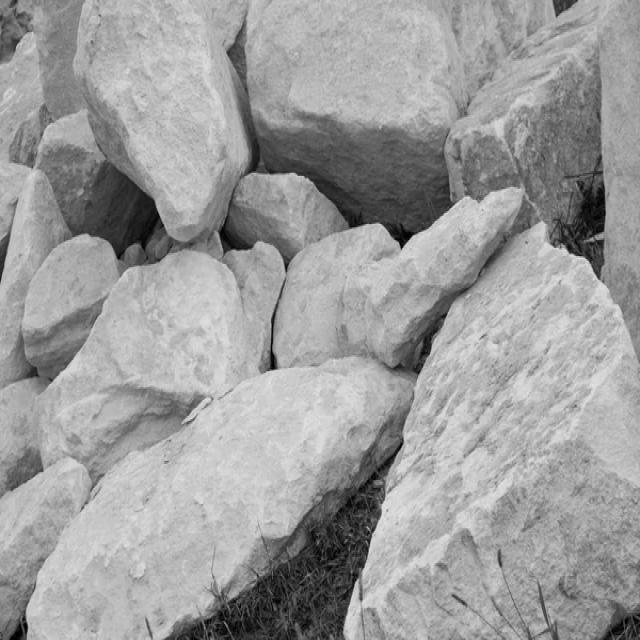Stone: (344, 222, 640, 639), (359, 228, 640, 640), (26, 358, 415, 640), (34, 251, 258, 484), (246, 0, 469, 233), (273, 180, 518, 368), (74, 0, 229, 242), (445, 0, 604, 232), (34, 109, 157, 254), (0, 459, 91, 640), (1, 168, 72, 390), (599, 0, 640, 356), (22, 234, 118, 378), (225, 172, 350, 262), (222, 242, 286, 374), (33, 0, 85, 119), (0, 378, 49, 497)
